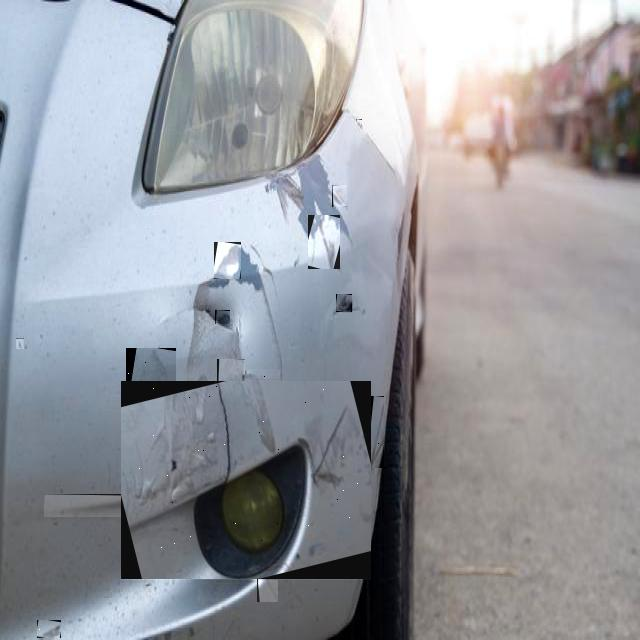Dent: (121, 382, 371, 582), (126, 348, 176, 484), (239, 369, 280, 472), (217, 359, 245, 485), (44, 494, 138, 517), (308, 215, 340, 269), (167, 455, 208, 487), (369, 396, 384, 468), (214, 242, 241, 279), (257, 559, 278, 602), (309, 484, 340, 511), (301, 454, 319, 492), (210, 382, 226, 416), (37, 620, 61, 638), (332, 185, 347, 207), (336, 294, 352, 312), (215, 310, 230, 324), (175, 442, 183, 456), (216, 425, 225, 436), (16, 338, 24, 349), (356, 119, 362, 126)
